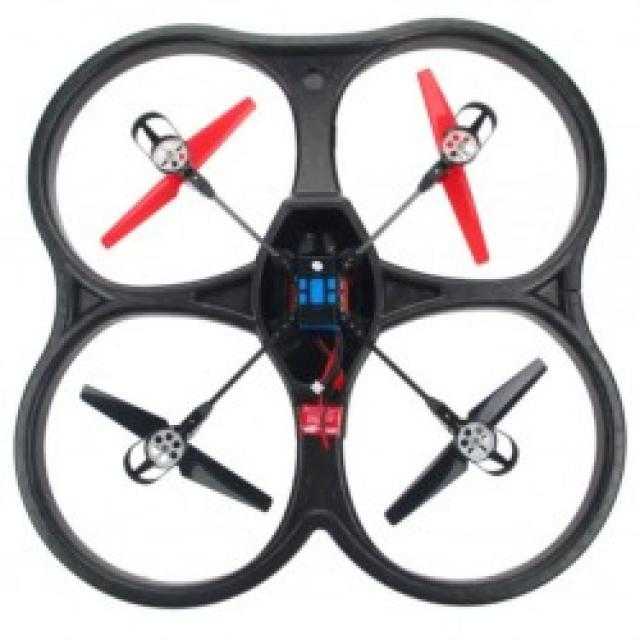drone: (3, 33, 622, 599)
